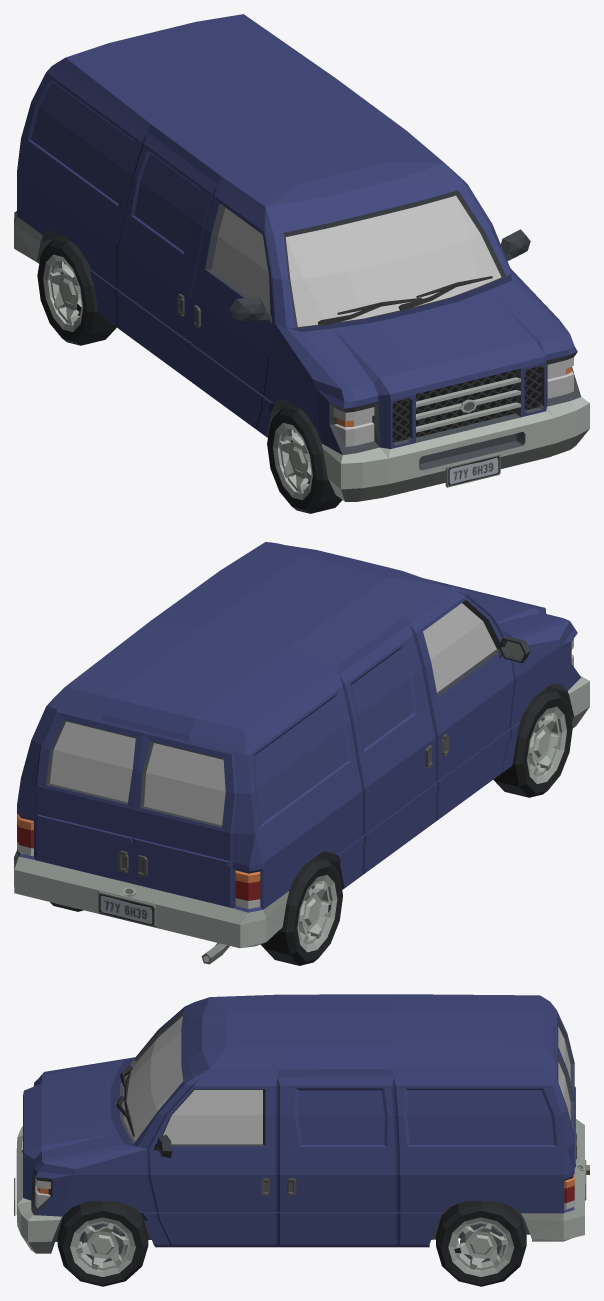
Rendered from van.glb.
3 renders of one model, top to bottom at view 1: azimuth 30°, elevation 25°; view 2: azimuth 150°, elevation 25°; view 3: azimuth 270°, elevation 25°, orthographic. The views are drawn at different scales.
Parts seen in each view (by area): view 1: SM_Veh_Car_Van_01, SM_Veh_Car_Van_Glass, Wheel_rr.001, Wheel_fr.001, SM_Veh_Car_Van_Plates; view 2: SM_Veh_Car_Van_01, SM_Veh_Car_Van_Door_r, SM_Veh_Car_Van_Door_l, Wheel_rr.001, Wheel_fr.001, SM_Veh_Car_Van_Glass, SM_Veh_Car_Van_Plates; view 3: SM_Veh_Car_Van_01, SM_Veh_Car_Van_Glass, Wheel_rl.001, Wheel_fl.001, SM_Veh_Car_Van_Door_l, SM_Veh_Car_Van_Door_r.
Part boxes in pixels (x1,y1,x2,y2): SM_Veh_Car_Van_01: (14, 14, 589, 501); SM_Veh_Car_Van_Glass: (212, 195, 501, 326); Wheel_rr.001: (37, 236, 116, 345); Wheel_fr.001: (267, 404, 342, 513); SM_Veh_Car_Van_Plates: (445, 453, 500, 487); SM_Veh_Car_Van_01: (14, 542, 589, 964); SM_Veh_Car_Van_Door_r: (133, 733, 234, 905); SM_Veh_Car_Van_Door_l: (36, 712, 143, 882); Wheel_rr.001: (260, 856, 342, 965); Wheel_fr.001: (493, 688, 572, 797); SM_Veh_Car_Van_Glass: (423, 603, 496, 692); SM_Veh_Car_Van_Plates: (98, 891, 156, 927); SM_Veh_Car_Van_01: (16, 994, 589, 1253); SM_Veh_Car_Van_Glass: (122, 1016, 262, 1144); Wheel_rl.001: (436, 1201, 526, 1286); Wheel_fl.001: (57, 1201, 148, 1286); SM_Veh_Car_Van_Door_l: (557, 1046, 576, 1167); SM_Veh_Car_Van_Door_r: (557, 1011, 576, 1140).
Size of the model in its own units: 2.47 by 2.03 by 5.04.
2 materials, 1 textured.
